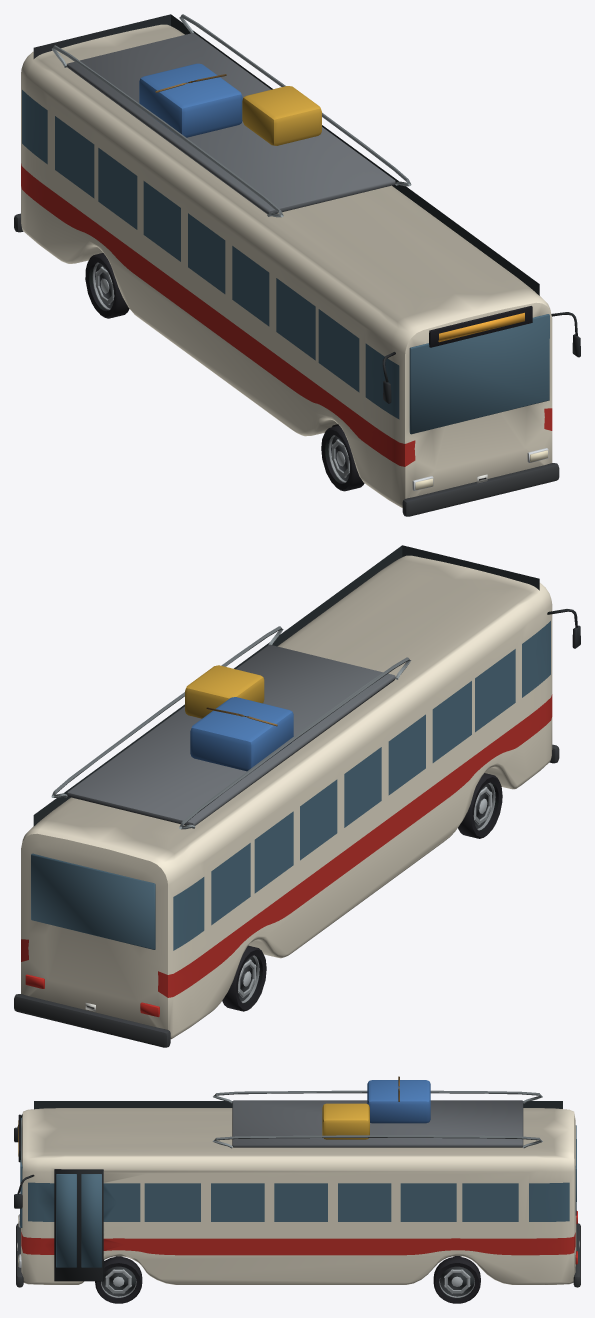
The model's file is veh-coach.glb.
3 renders of one model, top to bottom at view 1: azimuth 30°, elevation 25°; view 2: azimuth 150°, elevation 25°; view 3: azimuth 270°, elevation 25°, orthographic. The views are drawn at different scales.
Parts seen in each view (by area): view 1: body, wheel3, wheel1; view 2: body, wheel1, wheel3; view 3: body, wheel2, wheel0.
Part boxes in pixels (left/top/right/bottom): body: left=14, top=14, right=580, bottom=516; wheel3: left=85, top=253, right=129, bottom=318; wheel1: left=321, top=425, right=364, bottom=491; body: left=14, top=545, right=580, bottom=1047; wheel1: left=458, top=773, right=502, bottom=838; wheel3: left=222, top=945, right=266, bottom=1011; body: left=14, top=1076, right=580, bottom=1287; wheel2: left=433, top=1256, right=480, bottom=1303; wheel0: left=95, top=1256, right=142, bottom=1303.
Size of the model in its own units: 3.04 by 3.79 by 10.72.
